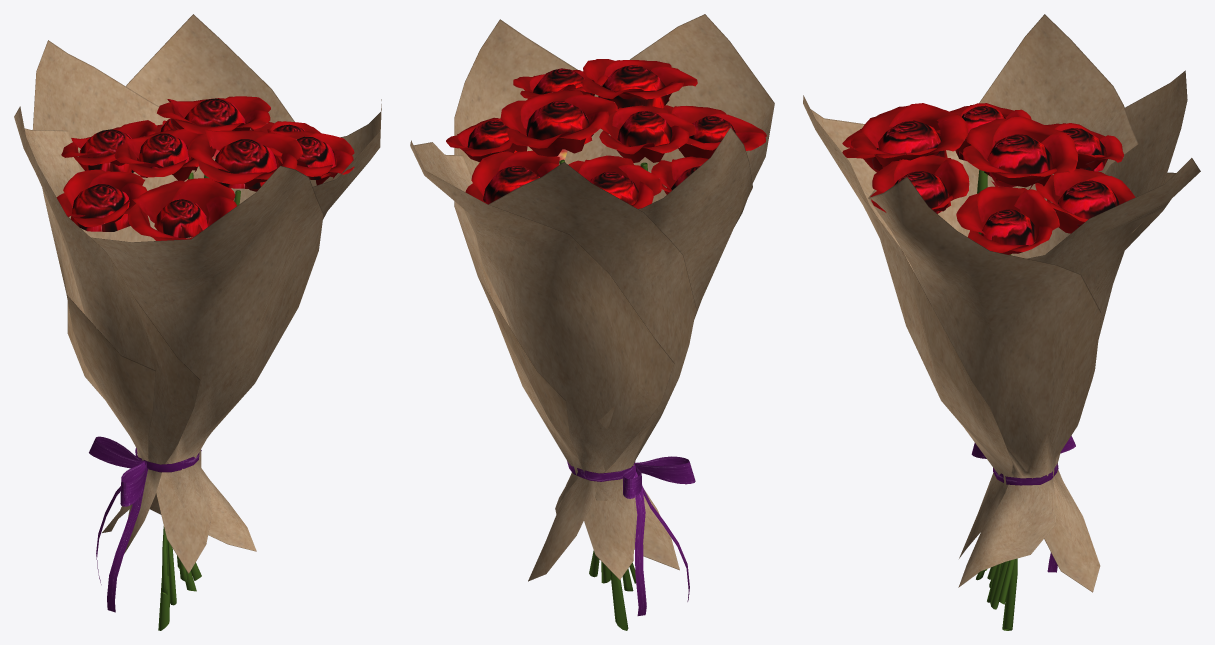
File: ROSE_LOD2.fbx
The picture shows the model from 3 angles, left to right: view 1: azimuth 30°, elevation 25°; view 2: azimuth 150°, elevation 25°; view 3: azimuth 270°, elevation 25°; orthographic projection. The views are drawn at different scales.
Parts seen in each view (by area): view 1: ROSE VOD_3; view 2: ROSE VOD_3; view 3: ROSE VOD_3.
Boxes of the visible parts, x1,y1,x2,y2 form: ROSE VOD_3: [14, 14, 381, 630]; ROSE VOD_3: [410, 14, 774, 630]; ROSE VOD_3: [803, 14, 1200, 630].
Size of the model in its own units: 38.88 by 64.95 by 42.07.
